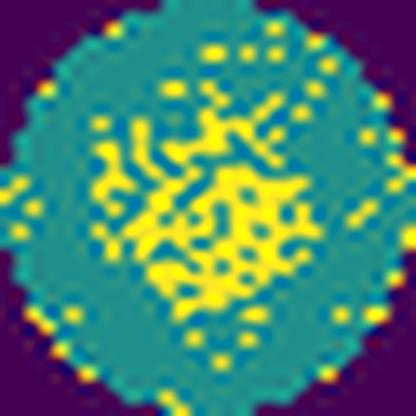Center: (91, 89, 329, 328)
